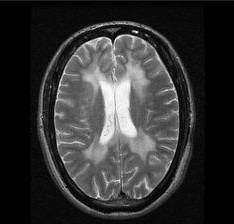Normal_Brain: (3, 2, 234, 224)
